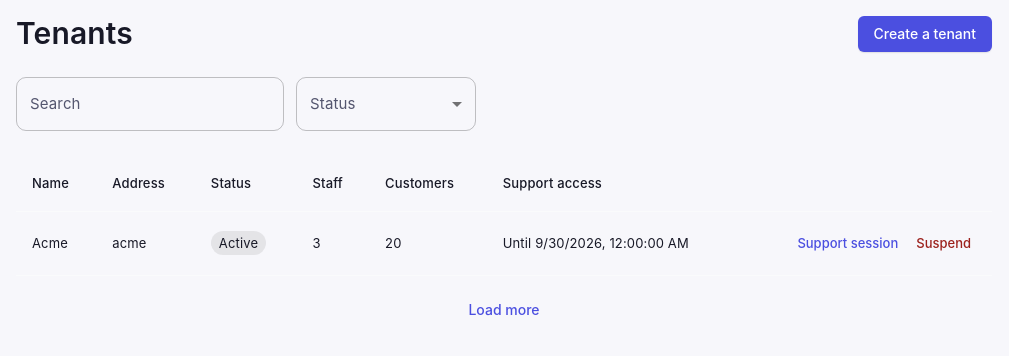
Test: TenantsPage › loads more tenants on demand
Check: the text "Acme" is shown, box [16,212,96,275]
Click the button "Load more". click: (504,310)
box: [460,292,548,328]
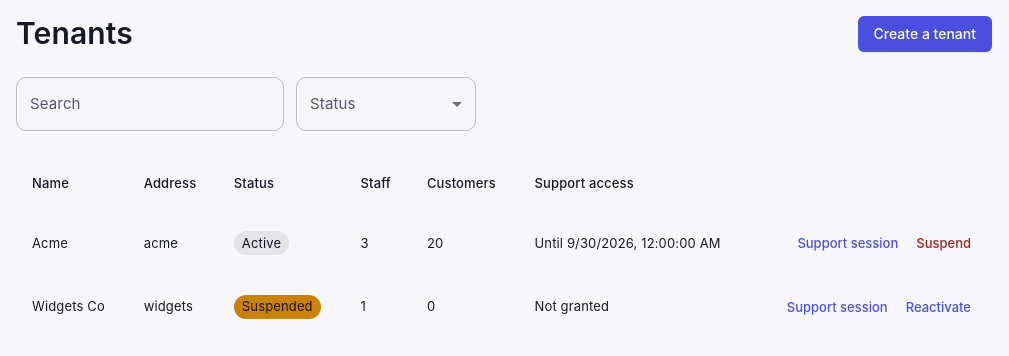
Check: the text "Widgets Co" is shown, box [16,275,128,339]
Check: the button "Load more" is gone
